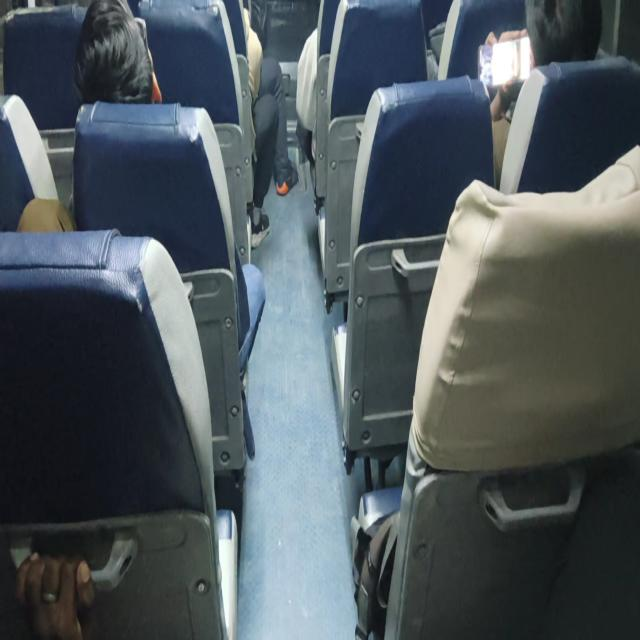person: (72, 0, 266, 374), (17, 0, 162, 232), (486, 0, 603, 184), (243, 6, 298, 248), (73, 0, 162, 105), (14, 549, 96, 638)
